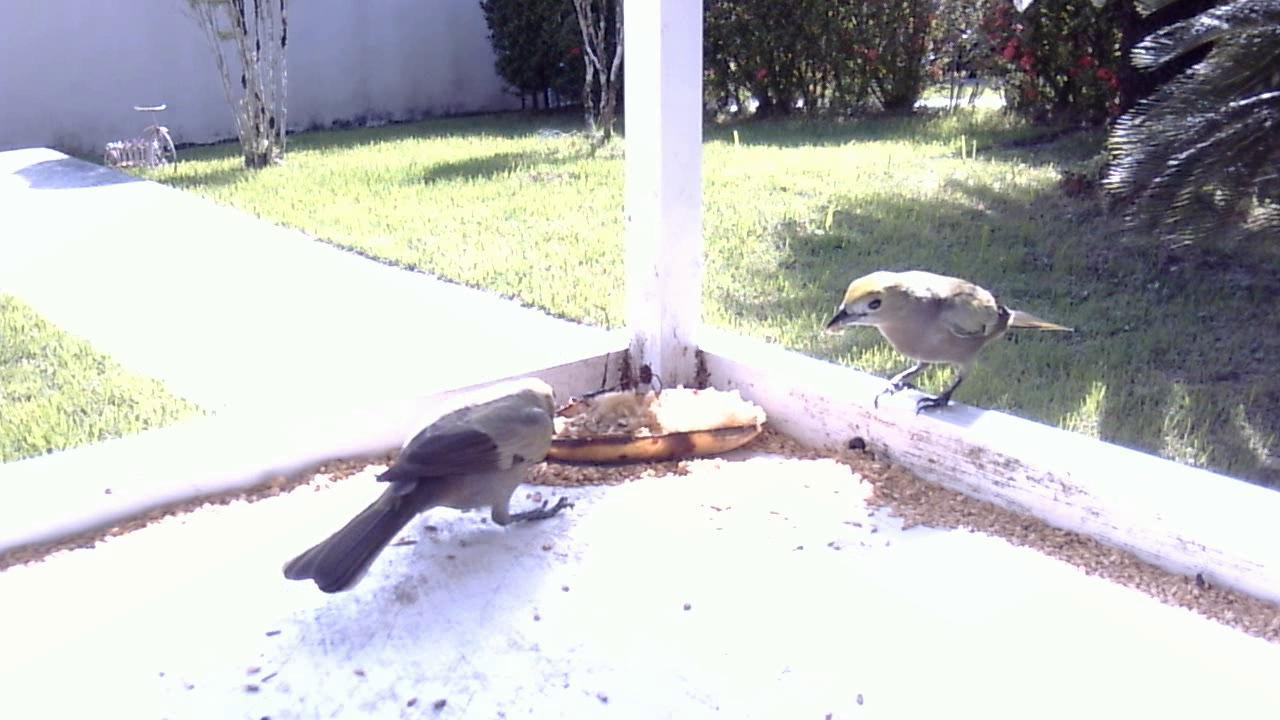sanhaco_do_coqueiro: (274, 363, 591, 601), (813, 263, 1075, 436)
